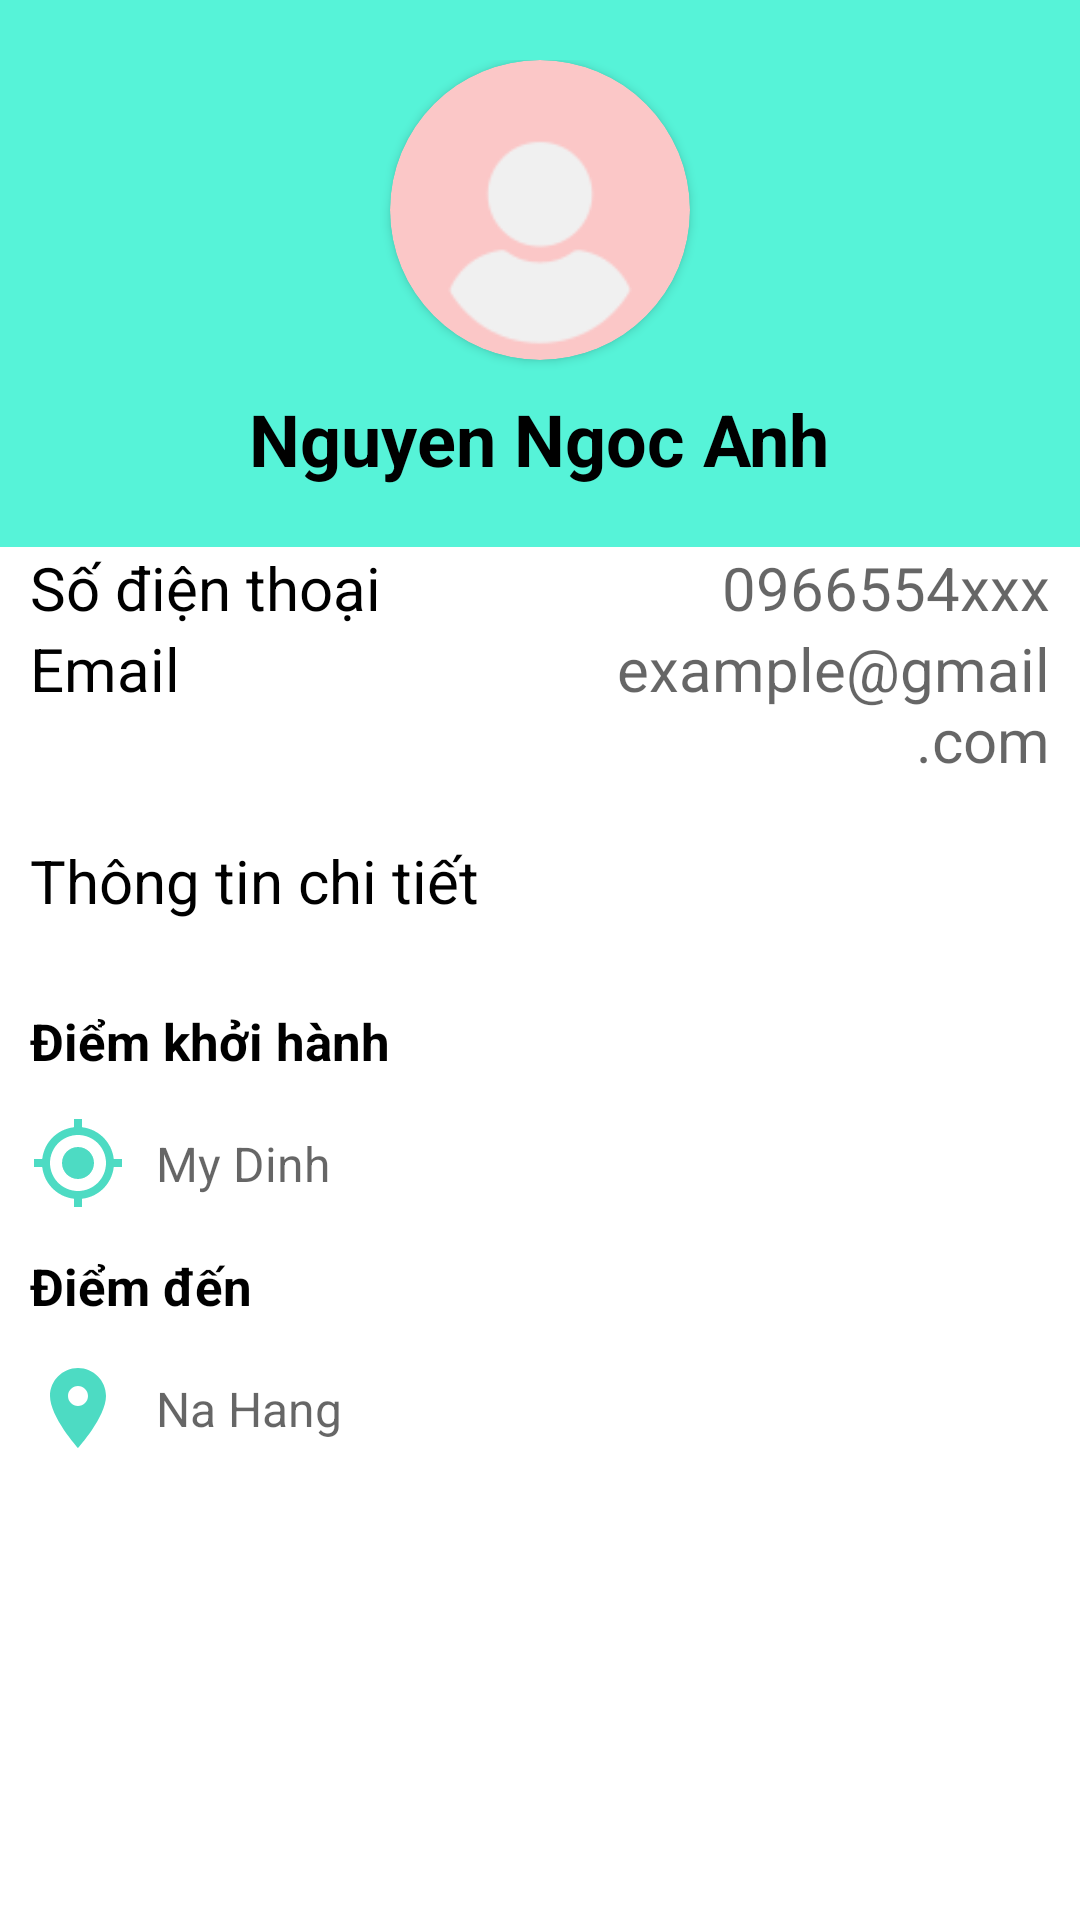

Screen size 1080 x 1920. Icon name, then its center in pixels as [x,y]:
location: [78,1163]
location on: [78,1408]
profile: [540,210]
